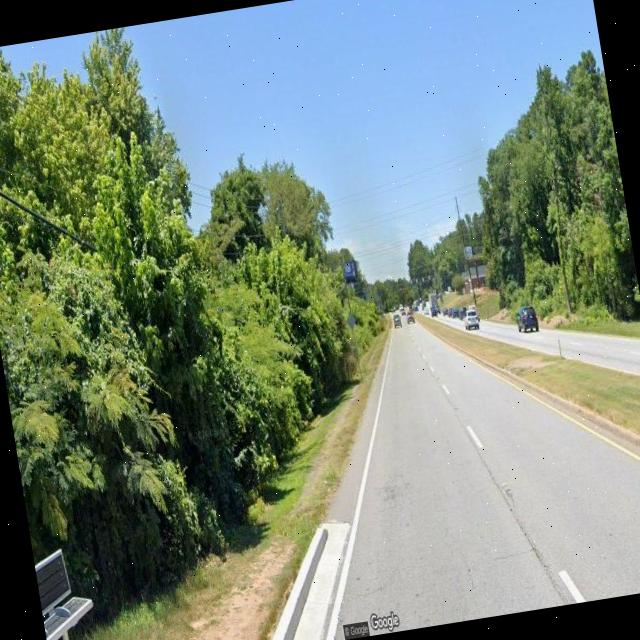seating: (32, 542, 105, 640)
